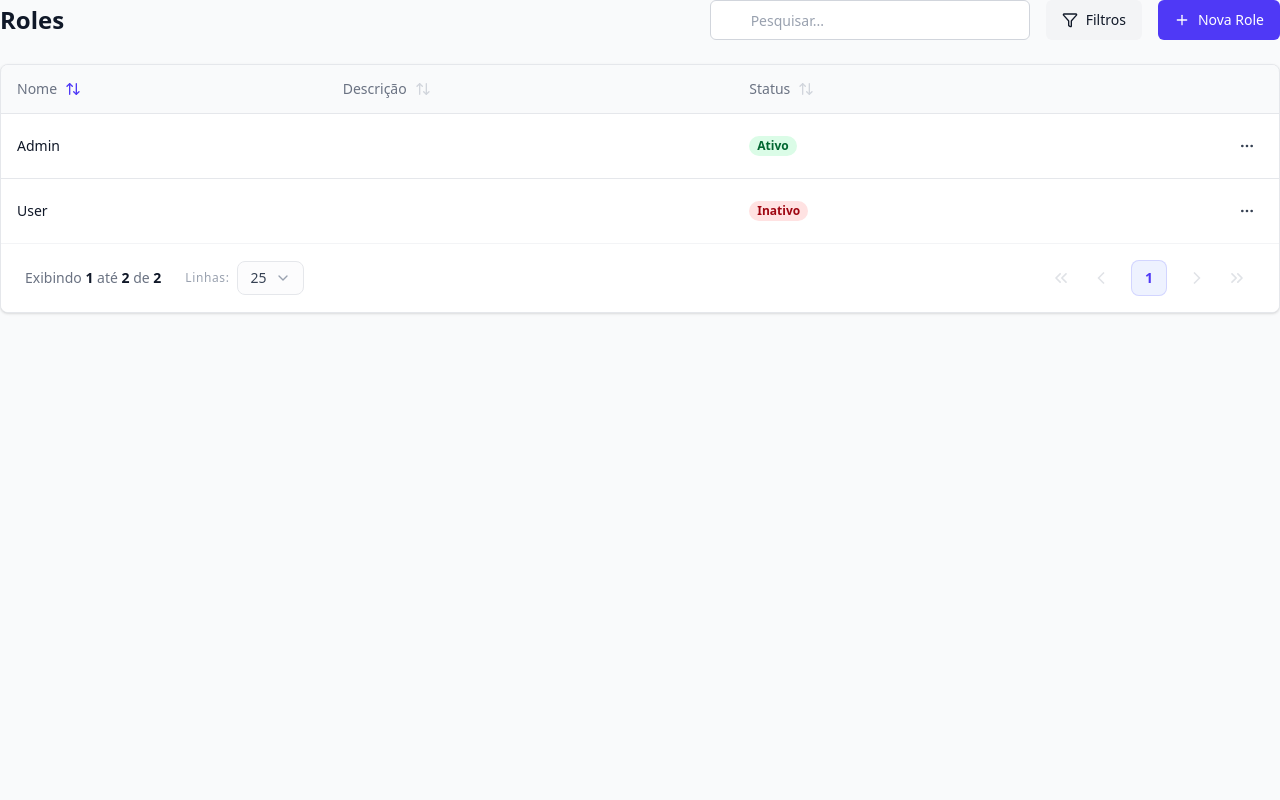
Test: RoleListPage › opens and closes filter drawer
This screenshot has width=1280, height=800.
Click the button "Filtros": x=1094, y=20 [1046, 0, 1142, 40]
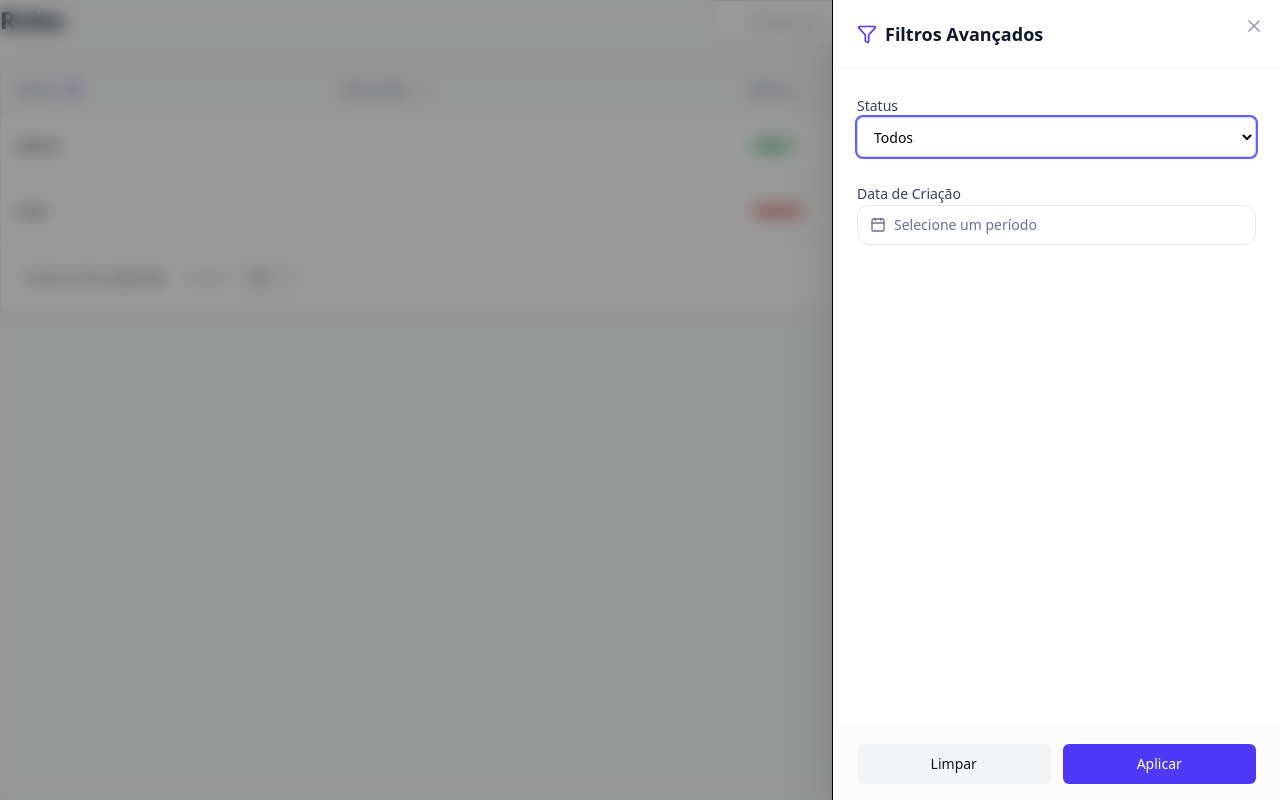
Check: the heading "Filtros Avançados" is shown, box [885, 20, 1043, 48]
Click the button "Limpar": x=954, y=764 [857, 744, 1050, 784]
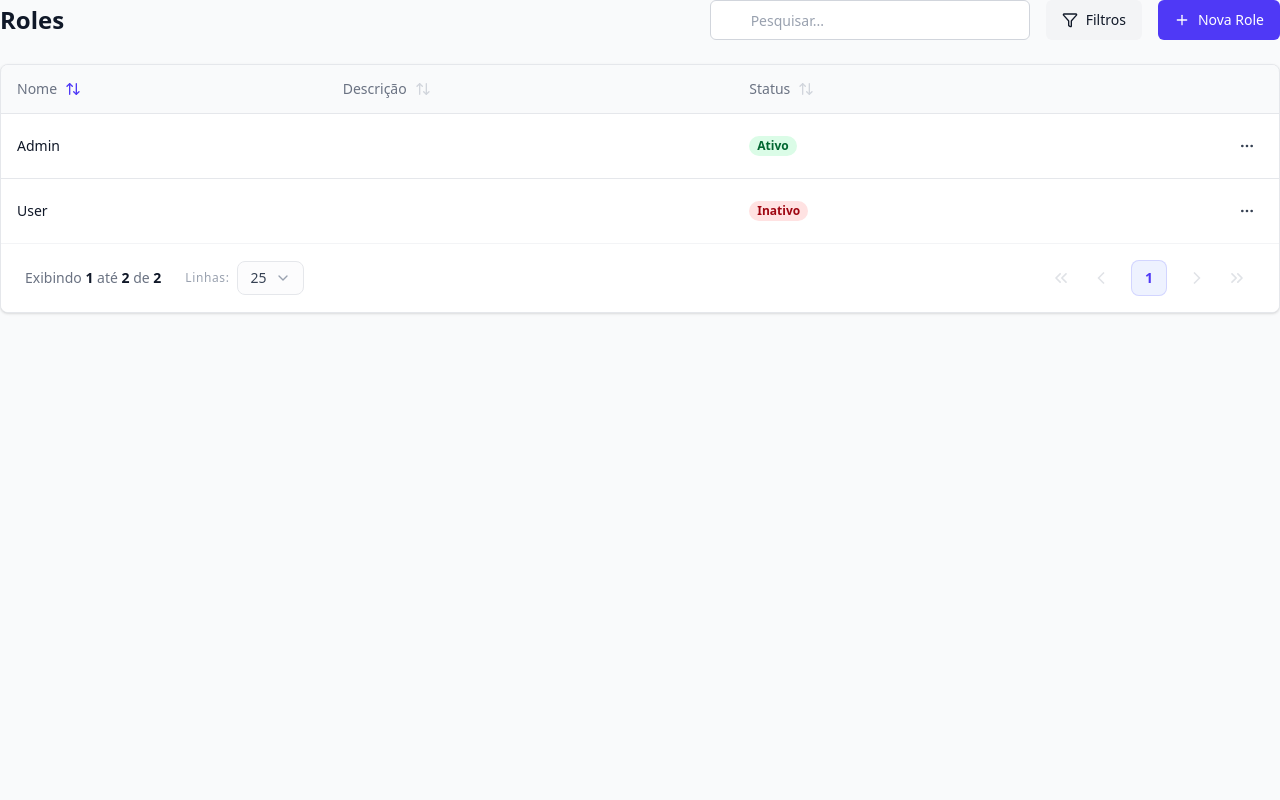
Check: the heading "Filtros Avançados" is gone
